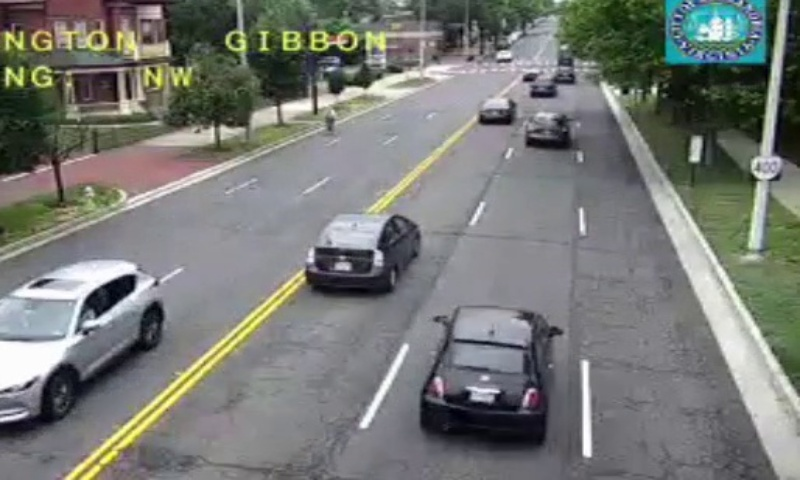car: (420, 304, 552, 430), (303, 213, 420, 286), (526, 113, 569, 145), (479, 98, 513, 122)
